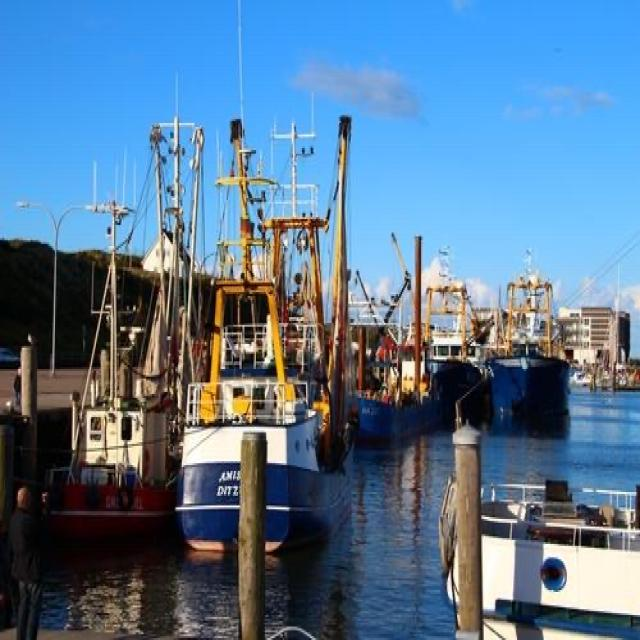houseboat: (54, 110, 205, 564), (197, 287, 329, 546), (358, 271, 478, 440), (492, 260, 568, 420)
